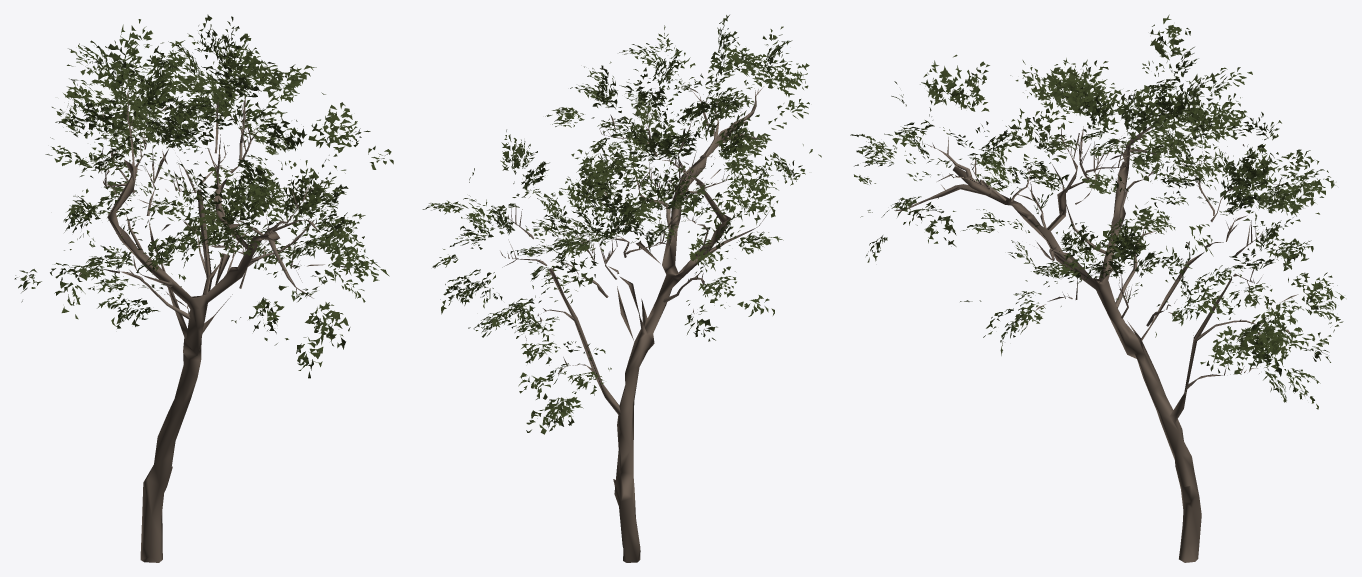
The model's file is tree_small_02-lod0.glb.
The picture shows the model from 3 angles, left to right: view 1: azimuth 30°, elevation 25°; view 2: azimuth 150°, elevation 25°; view 3: azimuth 270°, elevation 25°; orthographic projection. The views are drawn at different scales.
Parts seen in each view (by area): view 1: tree_small_02_LOD0; view 2: tree_small_02_LOD0; view 3: tree_small_02_LOD0.
Boxes of the visible parts, x1,y1,x2,y2 form: tree_small_02_LOD0: (14,14,393,562); tree_small_02_LOD0: (422,15,821,562); tree_small_02_LOD0: (850,14,1344,562).
Bounding box in the file's own units: 5.68 × 8.97 × 8.02.
